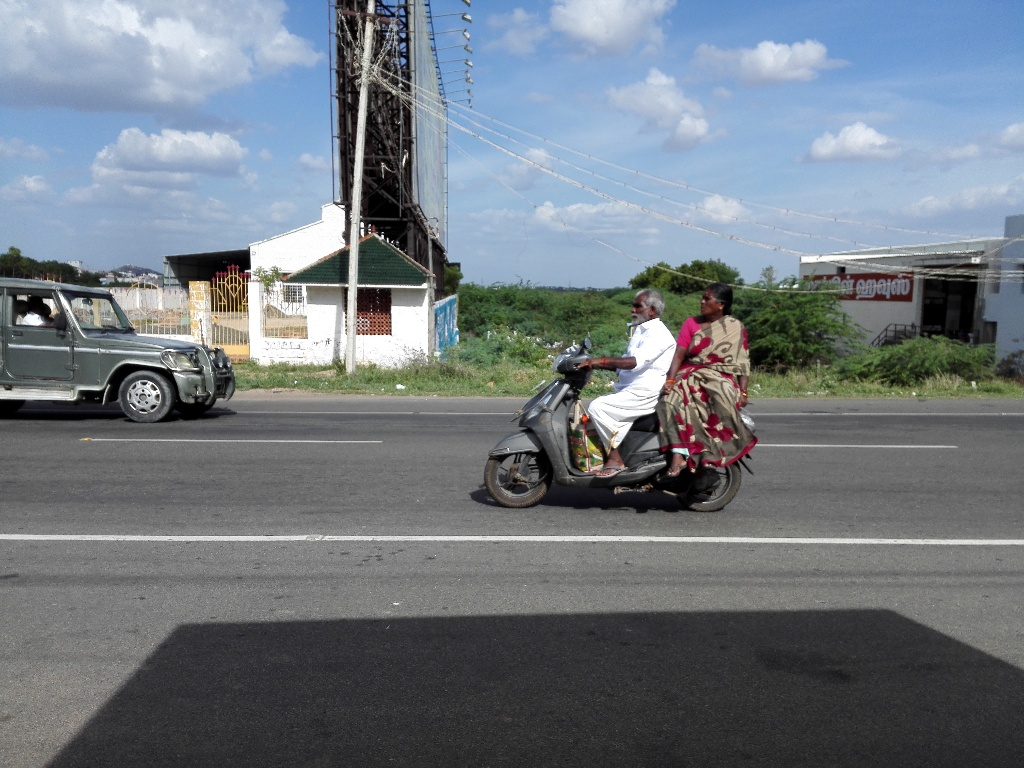biker: (469, 231, 771, 523)
nohelmet: (688, 271, 741, 335), (620, 278, 673, 342)
